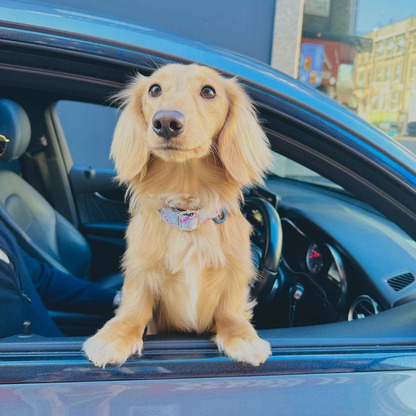dachshund: (80, 62, 302, 387)
